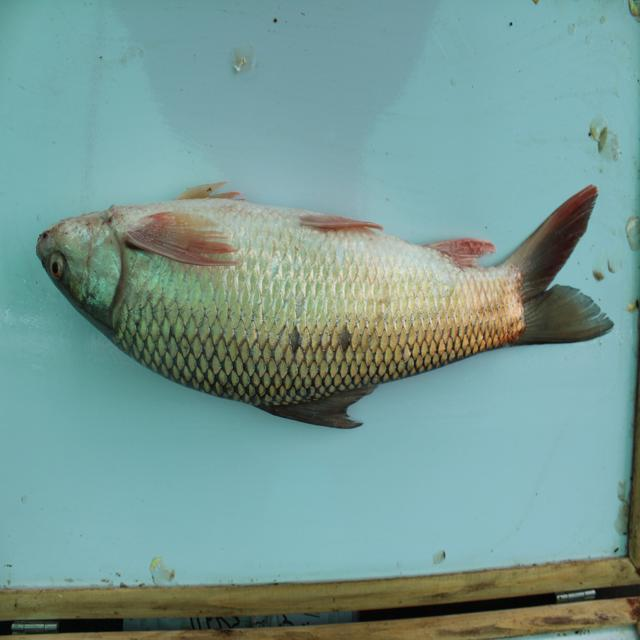Mori: (26, 156, 624, 447)
